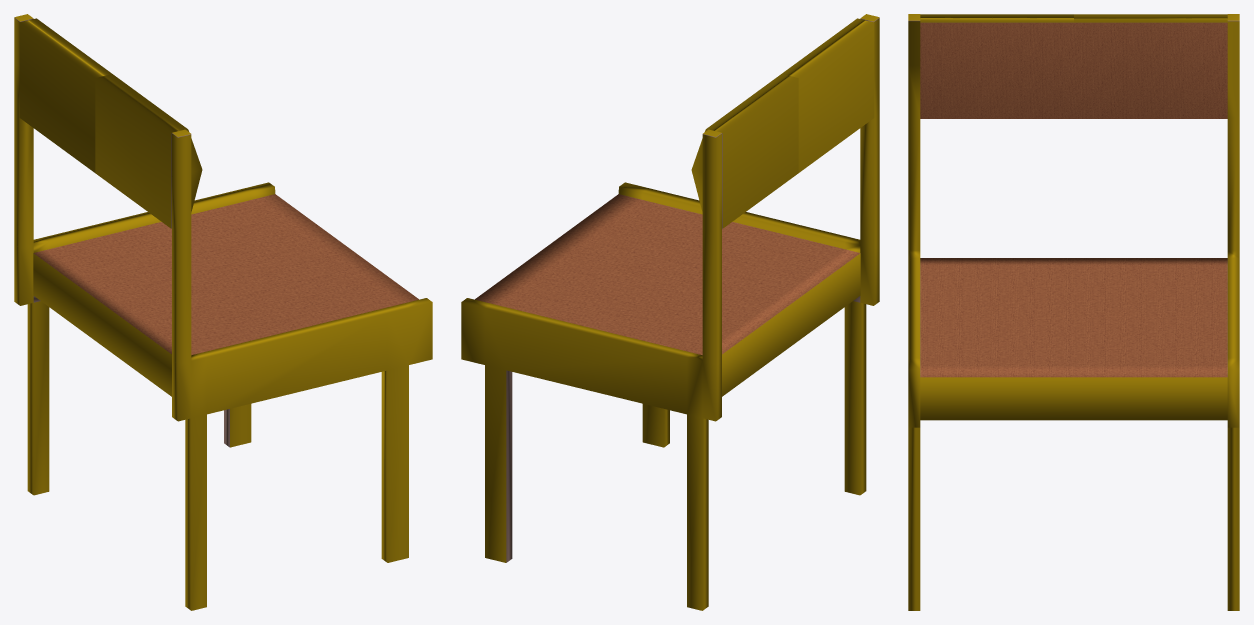
File: LibChair.fbx
The picture shows the model from 3 angles, left to right: view 1: azimuth 30°, elevation 25°; view 2: azimuth 150°, elevation 25°; view 3: azimuth 270°, elevation 25°; orthographic projection.
Visible parts, largest first — view 1: pCube1; view 2: pCube1; view 3: pCube1.
Part boxes in pixels (x1,y1,x2,y2): pCube1: (14,14,432,610); pCube1: (461,14,879,610); pCube1: (908,14,1239,610).
Bounding box in the file's own units: 131 × 234 × 146.
